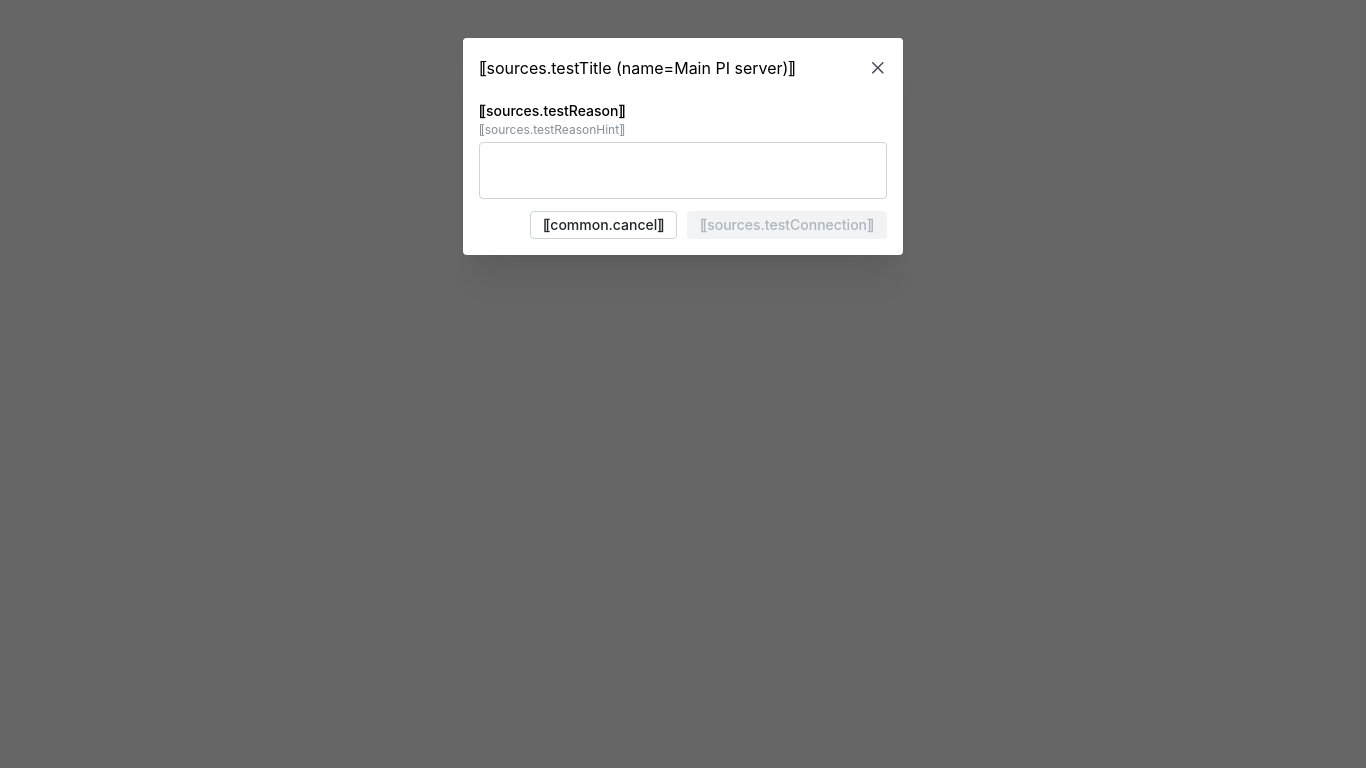
Test: TestDataSourceModal › причина їде на сервер обрізаною — вона йде в журнал безпеки
Type "  після заміни сертифіката  " into the text box at (683, 171), box [479,143,887,200]
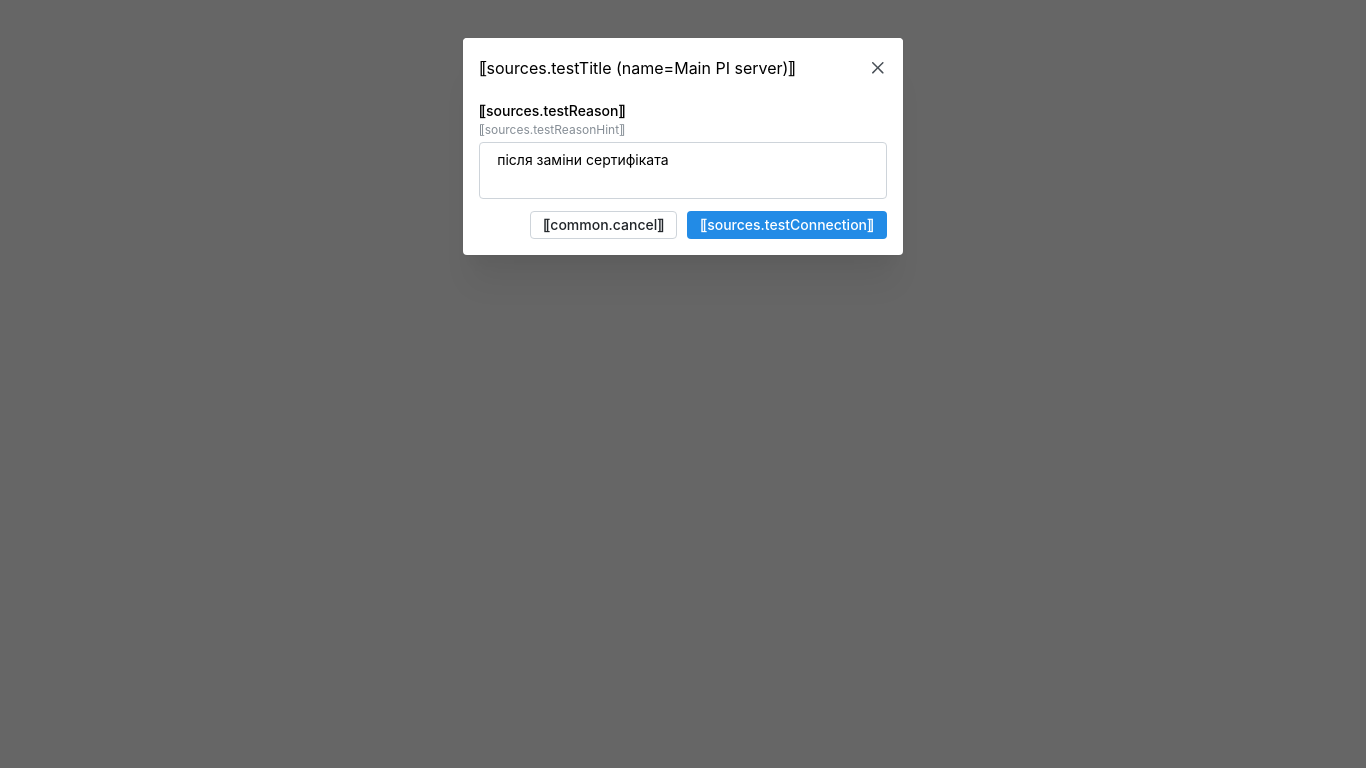
Click the button "⟦sources.testConnection⟧" at (787, 226), box [687,212,887,240]
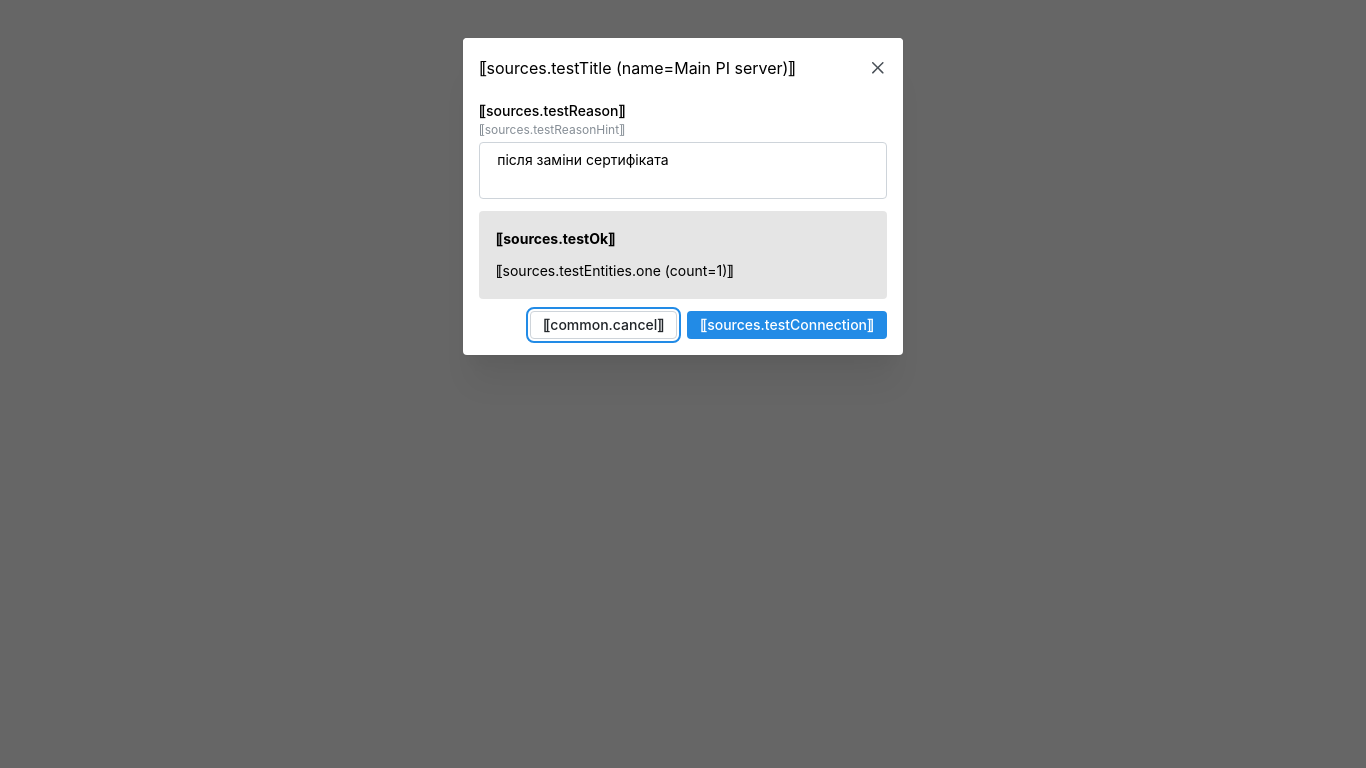
Check: the message "⟦sources.testOk⟧ ⟦sources.testEntities.one (count=1)⟧" is shown, box [479,212,887,299]
